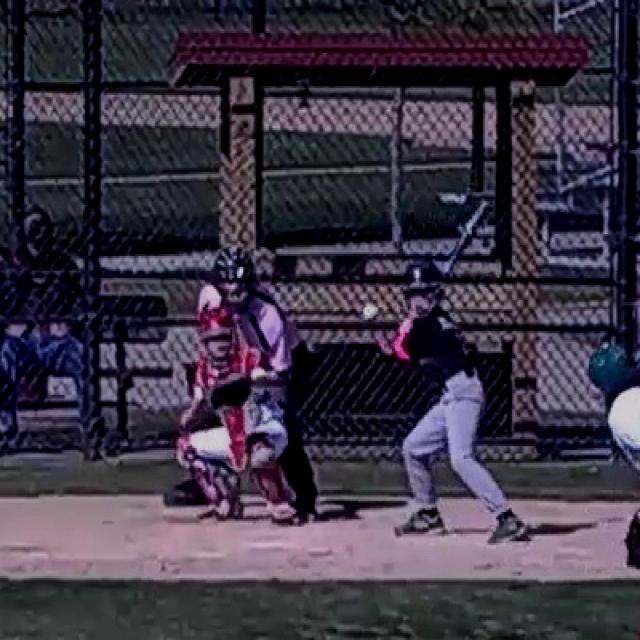baseball: (364, 303, 378, 320)
